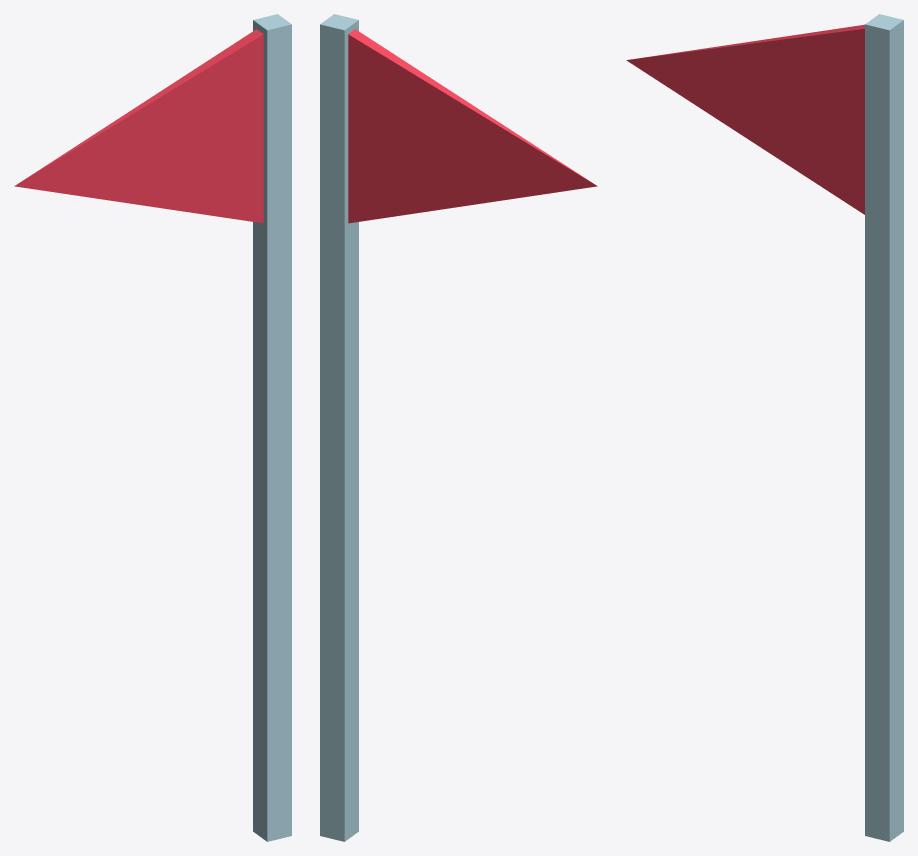
File: flag_red.fbx
3 views of the same model, side by side, from view 1: azimuth 30°, elevation 25°; view 2: azimuth 150°, elevation 25°; view 3: azimuth 330°, elevation 25° (orthographic).
Visible parts, largest first — view 1: flag_red; view 2: flag_red; view 3: flag_red.
Part boxes in pixels (left/top/right/bottom): flag_red: left=14, top=14, right=291, bottom=841; flag_red: left=320, top=14, right=597, bottom=841; flag_red: left=626, top=14, right=903, bottom=841.
Size of the model in its own units: 3.67 by 10.5 by 0.3333.
